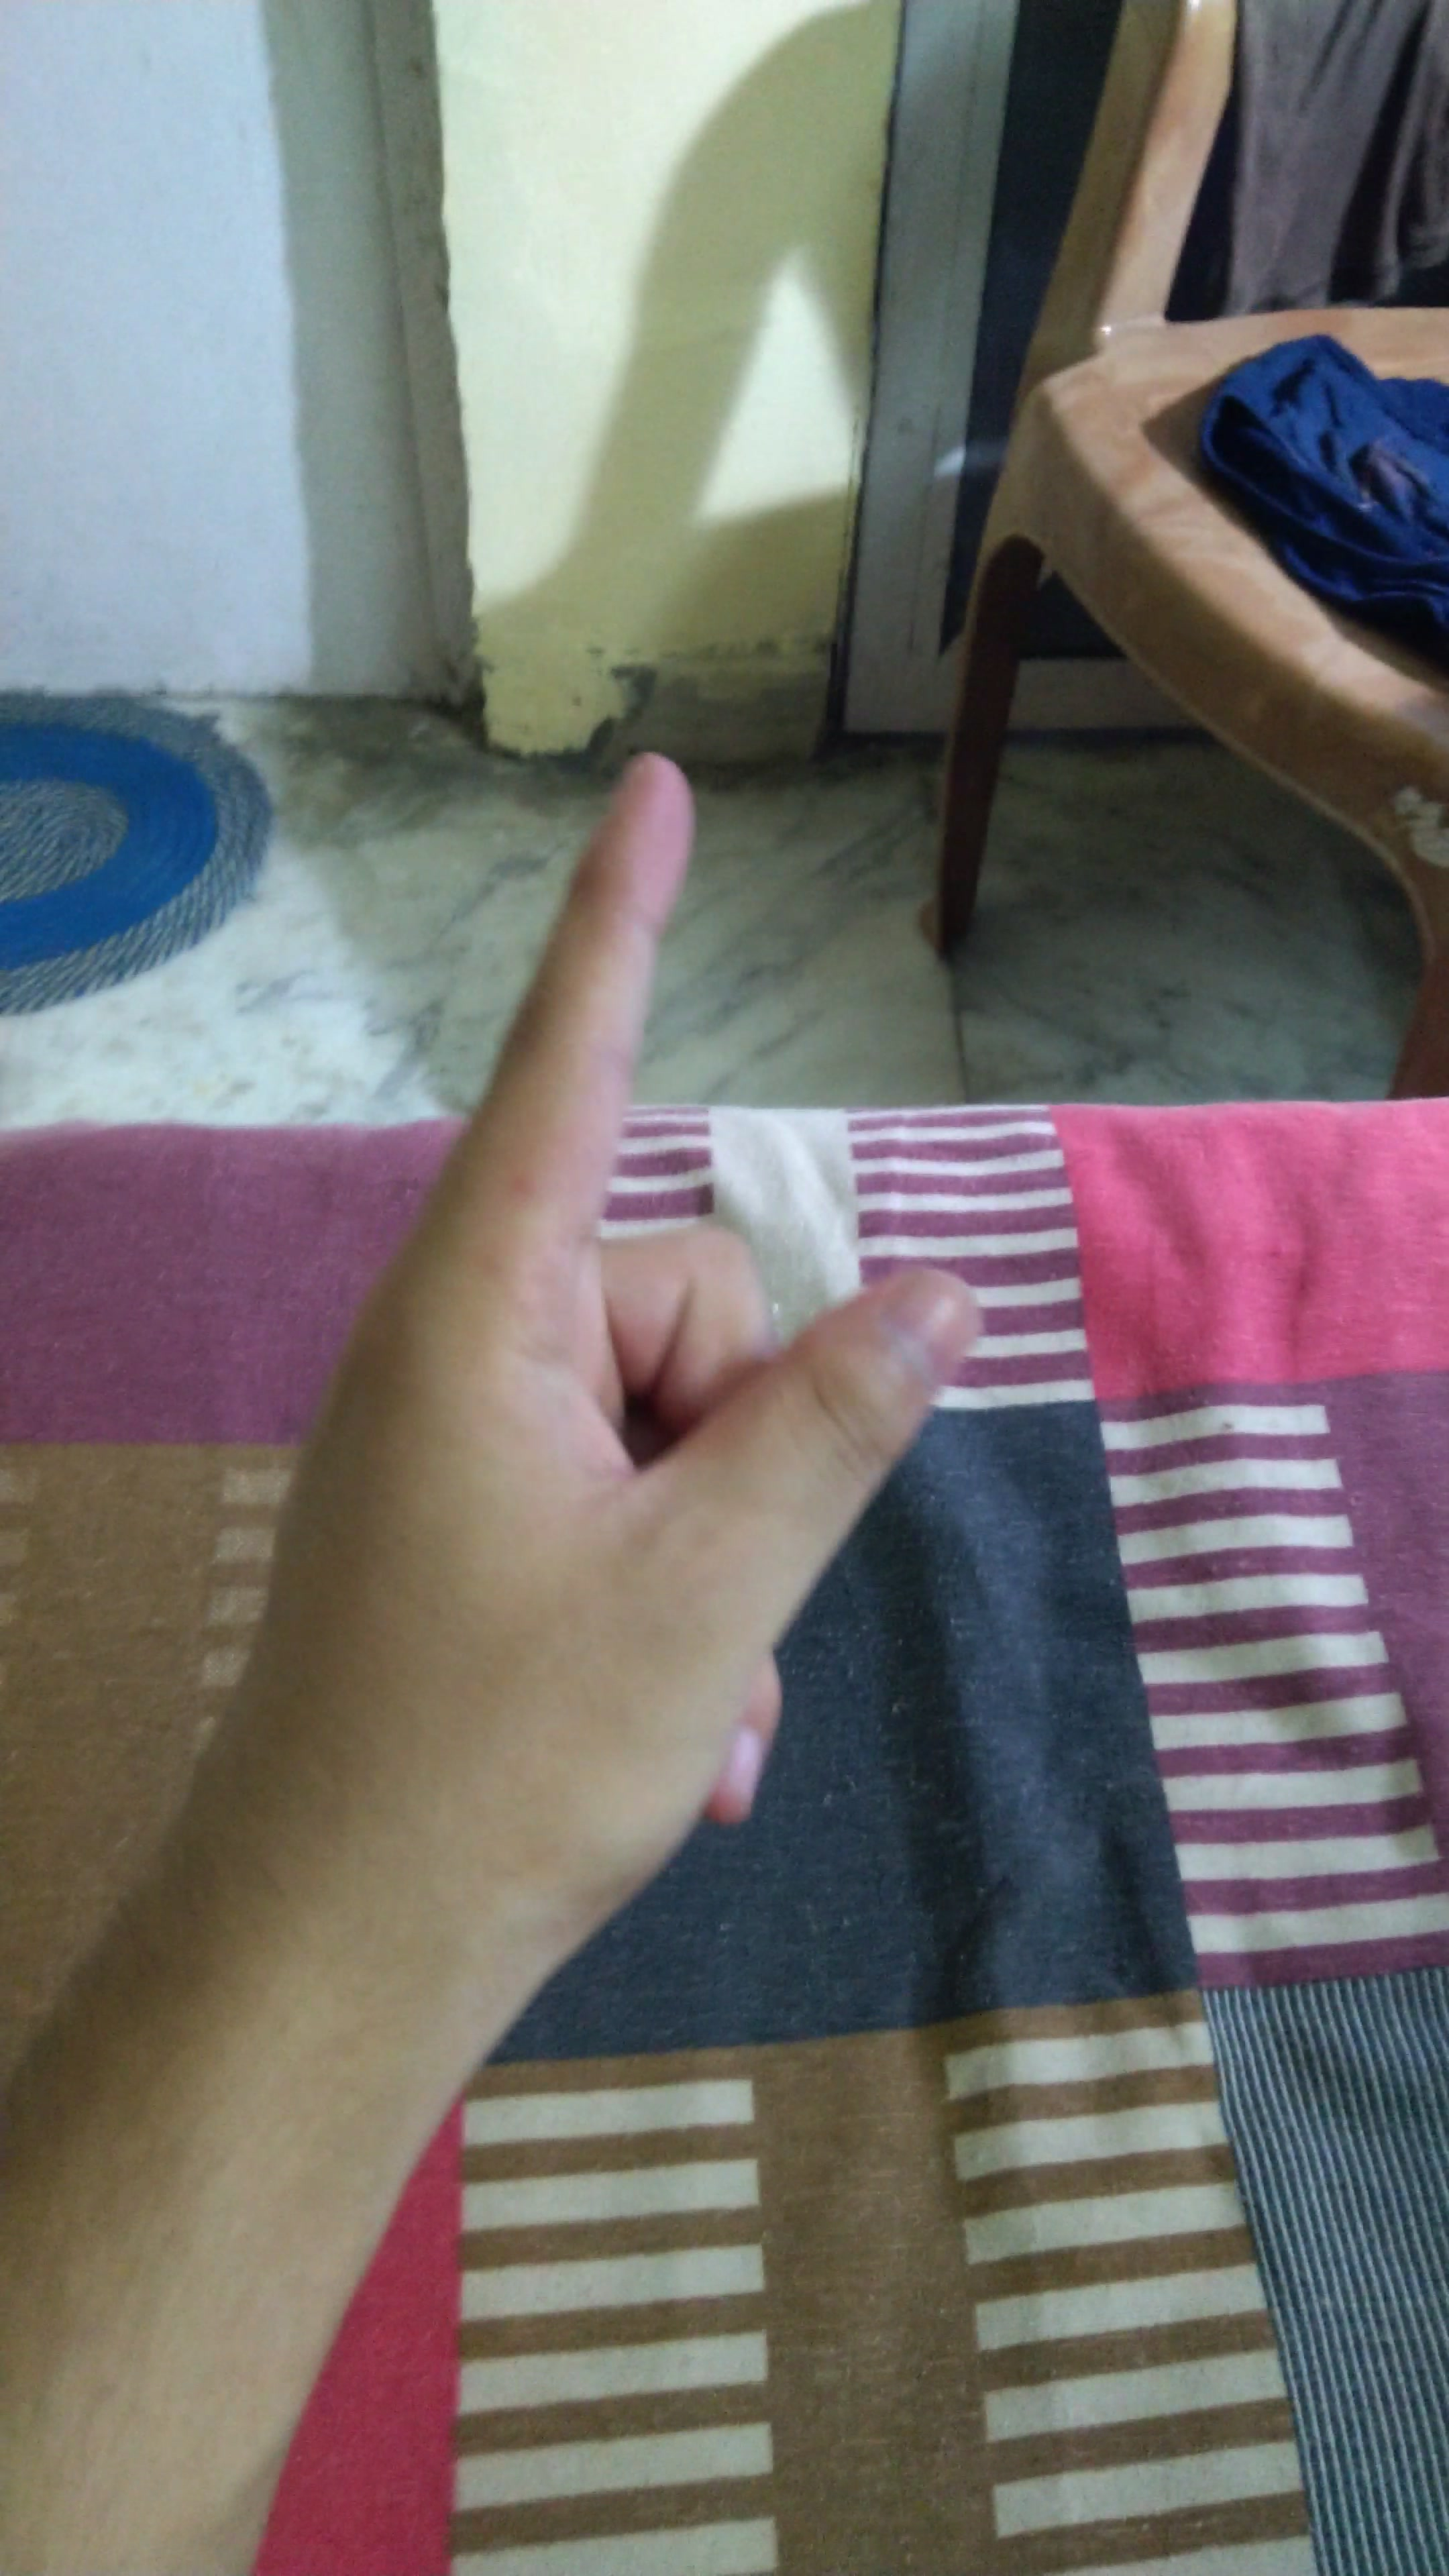hand: (165, 729, 1030, 1962)
